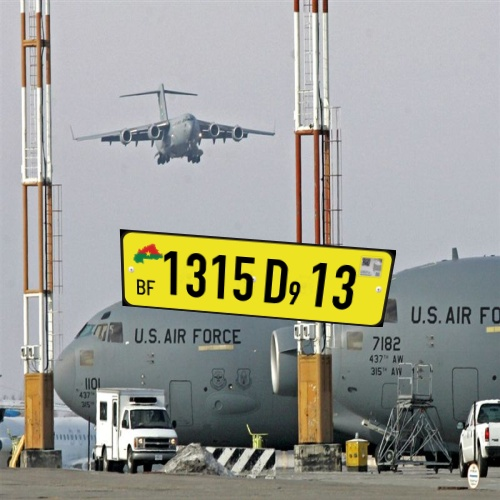plate: (104, 214, 406, 341)
